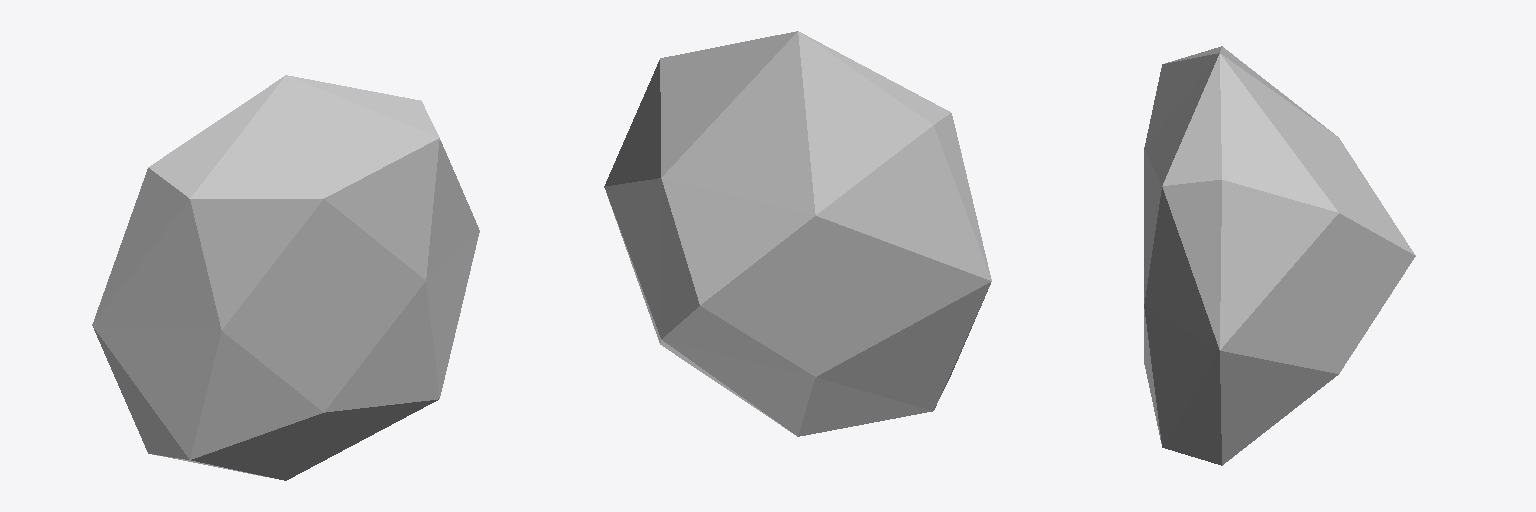
Rendered from diamond.obj.
3 renders of one model, left to right at view 1: azimuth 30°, elevation 25°; view 2: azimuth 150°, elevation 25°; view 3: azimuth 270°, elevation 25°, orthographic.
Parts seen in each view (by area): view 1: dobj; view 2: dobj; view 3: dobj.
Part boxes in pixels (x1,y1,x2,y2): dobj: (92,75,479,480); dobj: (604,31,991,436); dobj: (1144,46,1415,465).
Size of the model in its own units: 2.51 by 2.51 by 1.52.